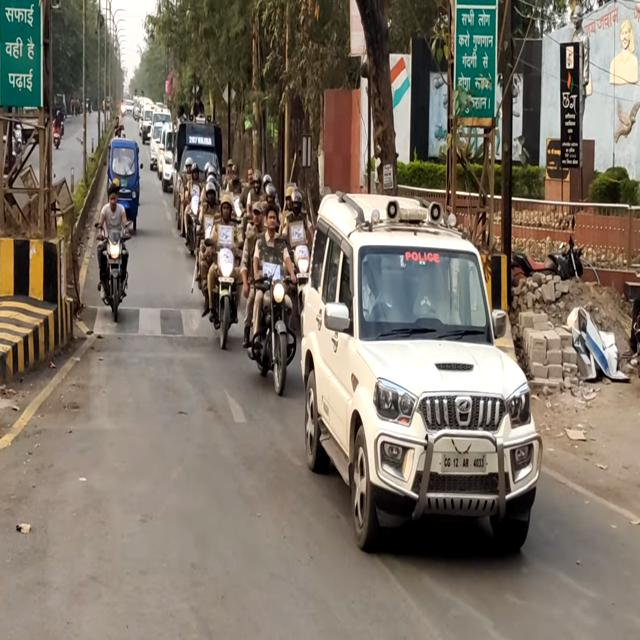emergency-vehicles: (270, 173, 550, 584)
